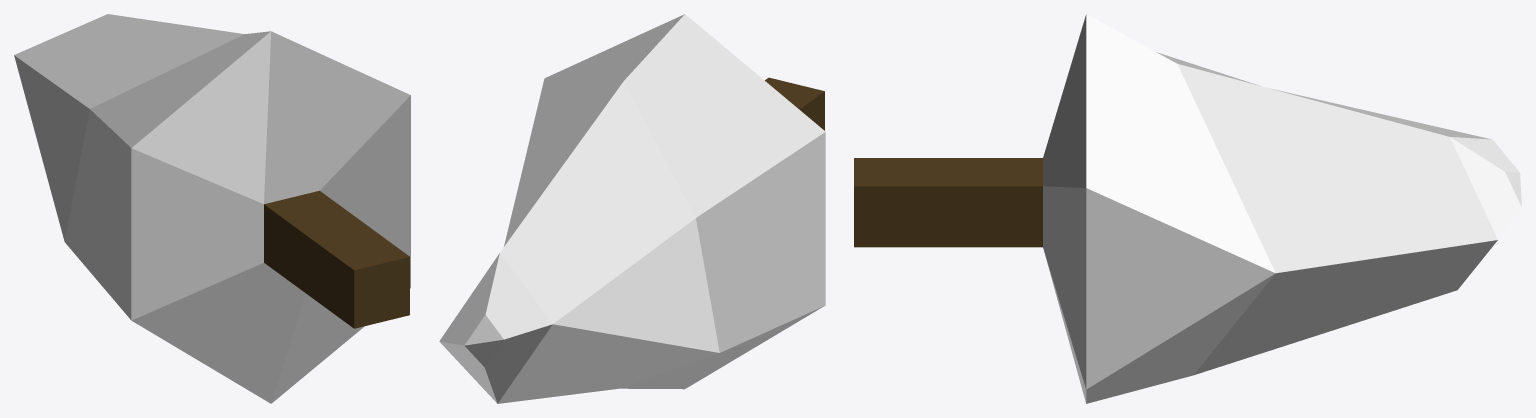
File: winter_night_tree_6.fbx
3 renders of one model, left to right at view 1: azimuth 30°, elevation 25°; view 2: azimuth 150°, elevation 25°; view 3: azimuth 270°, elevation 25°, orthographic. The views are drawn at different scales.
Visible parts, largest first — view 1: winter_night_tree_6; view 2: winter_night_tree_6; view 3: winter_night_tree_6.
Boxes of the visible parts, <box> form: winter_night_tree_6: <box>14,14,410,403</box>; winter_night_tree_6: <box>439,14,825,403</box>; winter_night_tree_6: <box>854,14,1521,403</box>.
Bounding box in the file's own units: 93.14 × 119 × 184.
